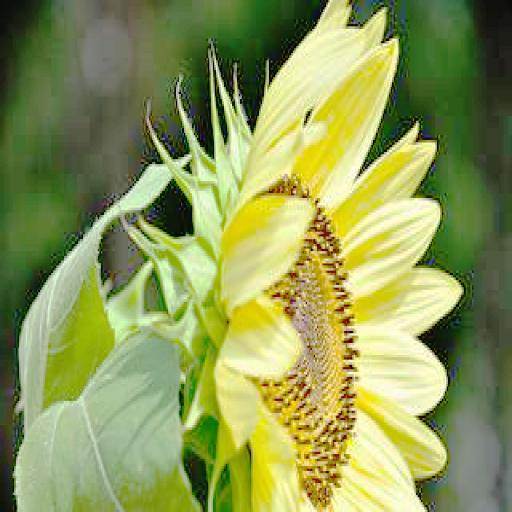sunflower: (222, 0, 504, 512)
